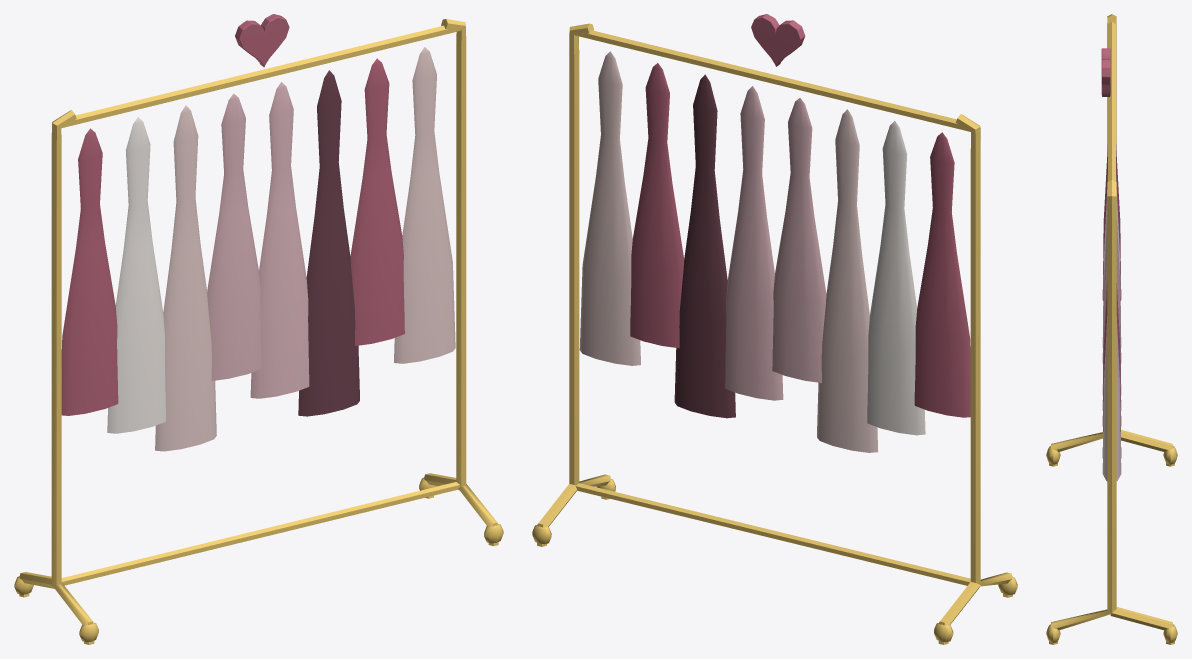
Rendered from clothes_rail_gold.glb.
3 renders of one model, left to right at view 1: azimuth 30°, elevation 25°; view 2: azimuth 150°, elevation 25°; view 3: azimuth 270°, elevation 25°, orthographic. The views are drawn at different scales.
Parts seen in each view (by area): view 1: clothes_rail_gold; view 2: clothes_rail_gold; view 3: clothes_rail_gold.
Part boxes in pixels (box(x1,y1,x2,y2)): clothes_rail_gold: box(14, 14, 503, 644); clothes_rail_gold: box(532, 14, 1017, 644); clothes_rail_gold: box(1046, 14, 1177, 644).
Size of the model in its own units: 1.51 by 1.88 by 0.45.
